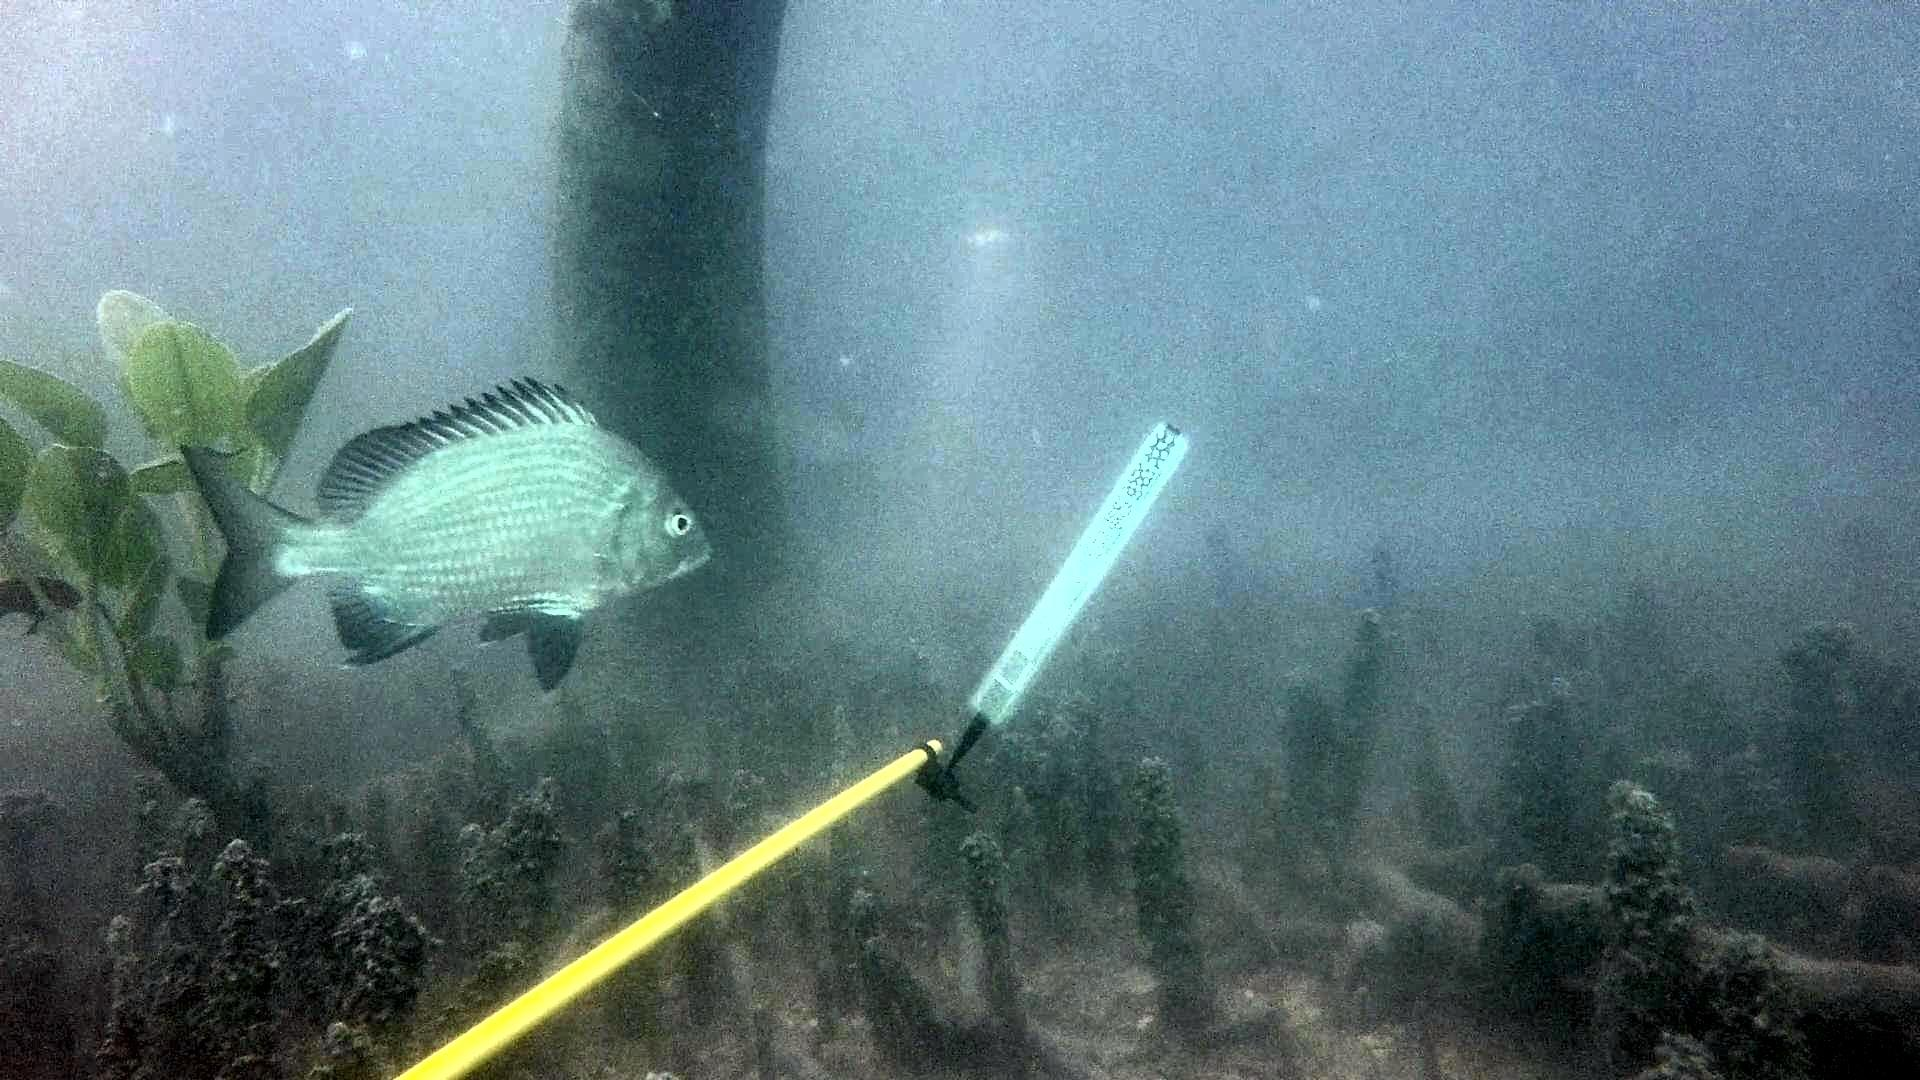acanthopagrus palmaris: (173, 368, 723, 704)
